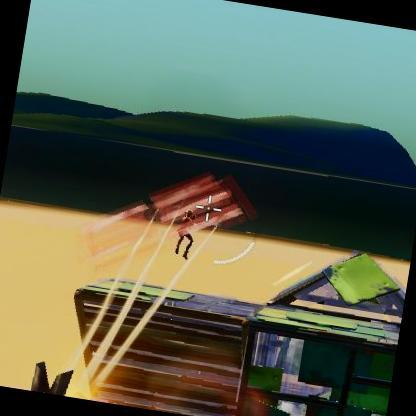person: (168, 203, 204, 259)
